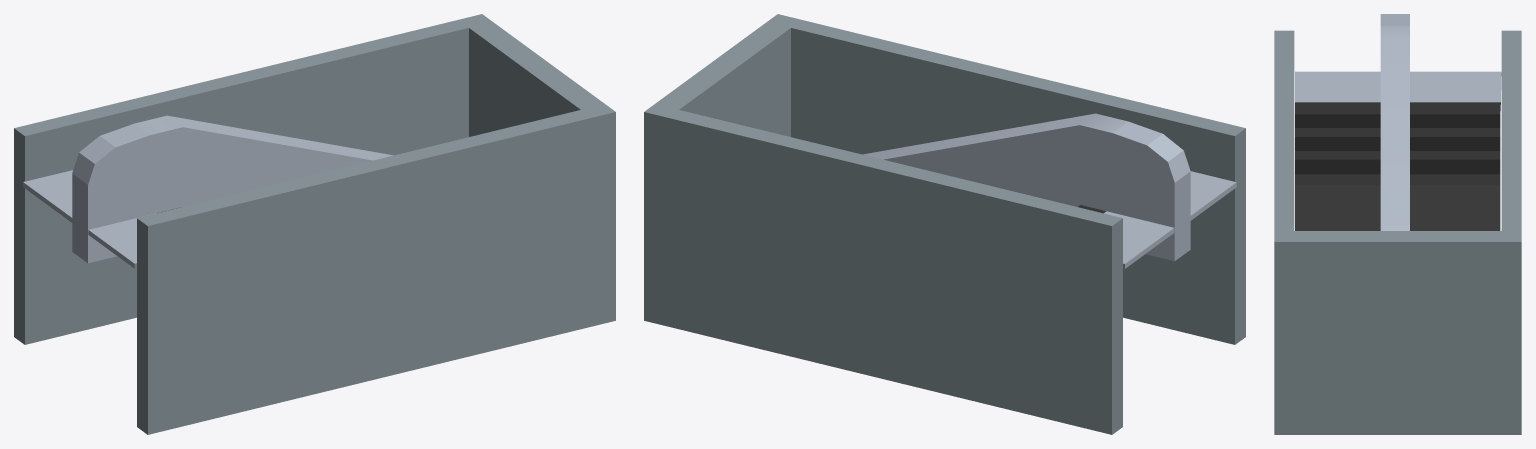
The model's file is dianti_01.FBX.
3 views of the same model, side by side, from view 1: azimuth 30°, elevation 25°; view 2: azimuth 150°, elevation 25°; view 3: azimuth 270°, elevation 25° (orthographic). The views are drawn at different scales.
Visible parts, largest first — view 1: dianti_01; view 2: dianti_01; view 3: dianti_01.
Boxes of the visible parts, box(x1,y1,x2,y2) form: dianti_01: box(14, 14, 615, 434); dianti_01: box(644, 14, 1245, 434); dianti_01: box(1274, 14, 1521, 434).
Bounding box in the file's own units: 105 × 51.61 × 51.51.
